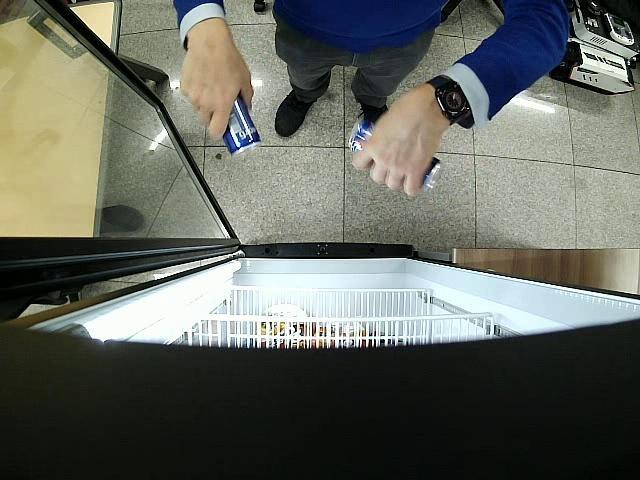16_hot6: (348, 113, 442, 191), (223, 94, 262, 154)
